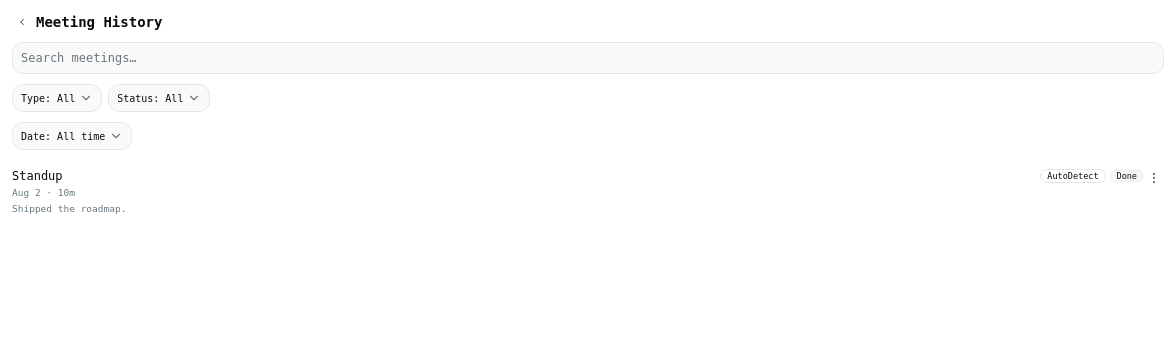
it: MeetingHistory › Delete › removes the row immediately when Delete is clicked
The image size is (1176, 352).
Expected: the text "Standup" is shown, [12, 168, 63, 184]
Click the button named "actions": (1154, 178) [1144, 168, 1164, 188]
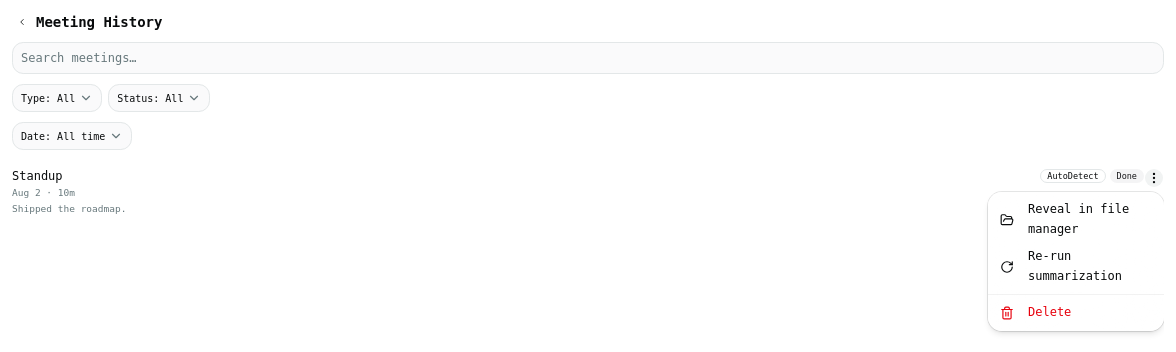
Click the menu item "Delete": (1036, 313) [1000, 305, 1071, 320]
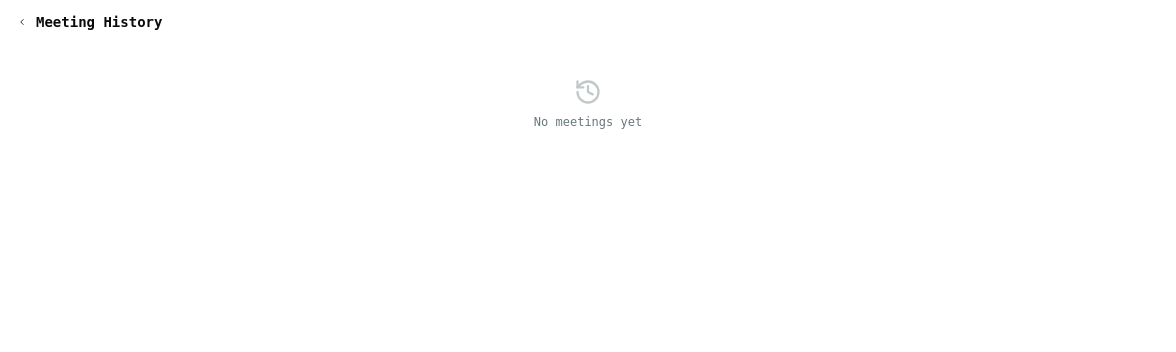
Expected: the text "Standup" is gone
